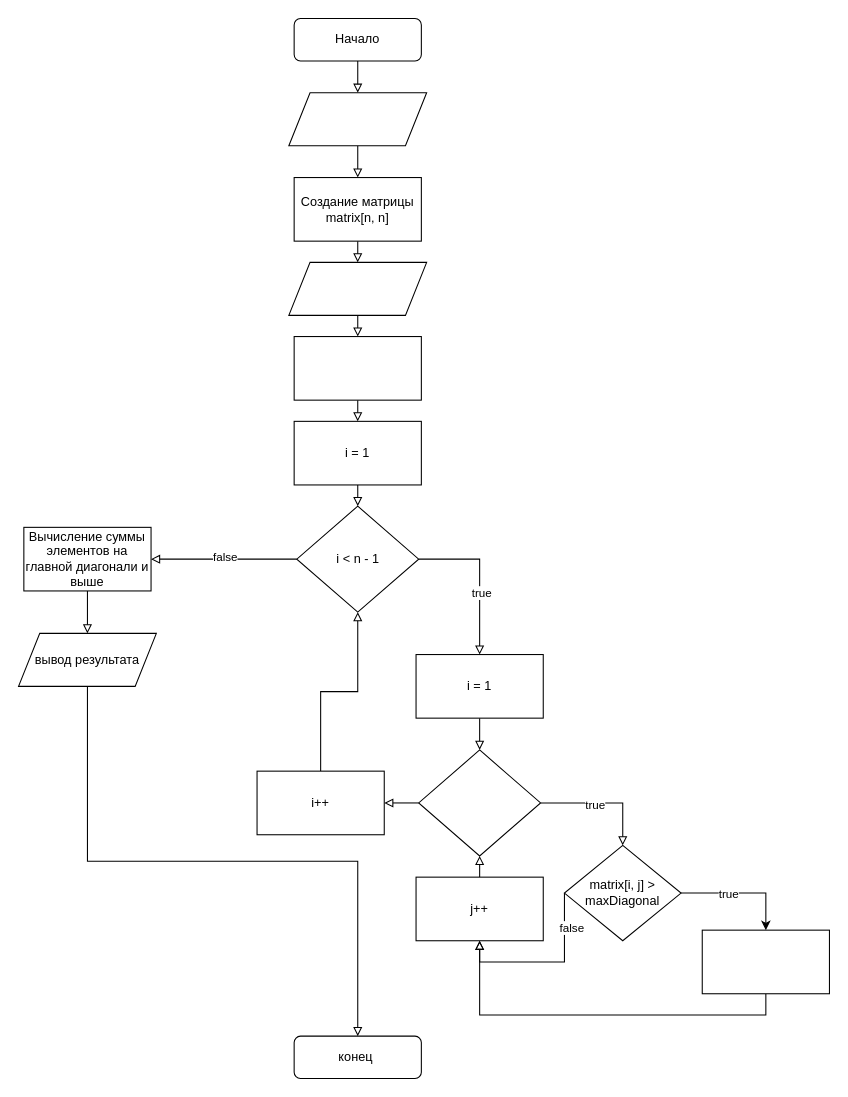
This 848x1097 diagram has some shape labels left out. The shapes that lost their labels are listed below. From the top down, each one's box as (x1, y1, x2, y2) in pixels, then its label:
(288, 92, 427, 146): Ввод n
(288, 261, 427, 315): Ввод элементов матрицы
(293, 335, 421, 400): Инициализация maxDiagonal
(418, 749, 541, 856): j < i -1
(701, 929, 829, 994): maxDiagonal = matrix[i, j]
